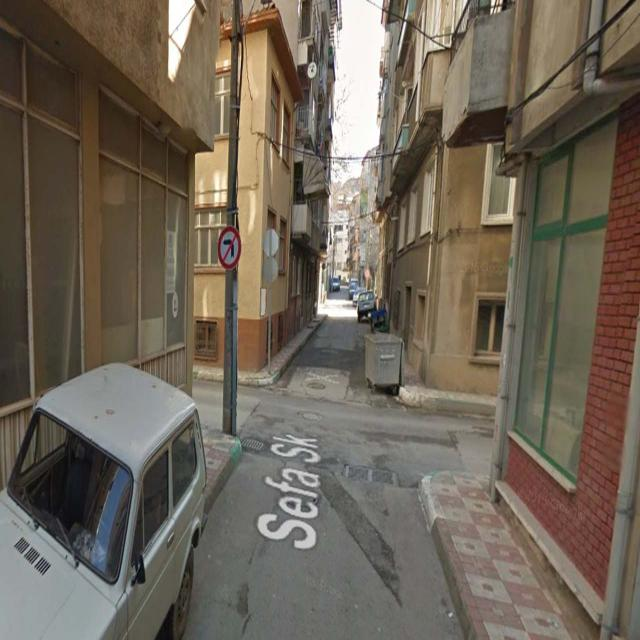soladonulmez: (218, 225, 242, 270)
